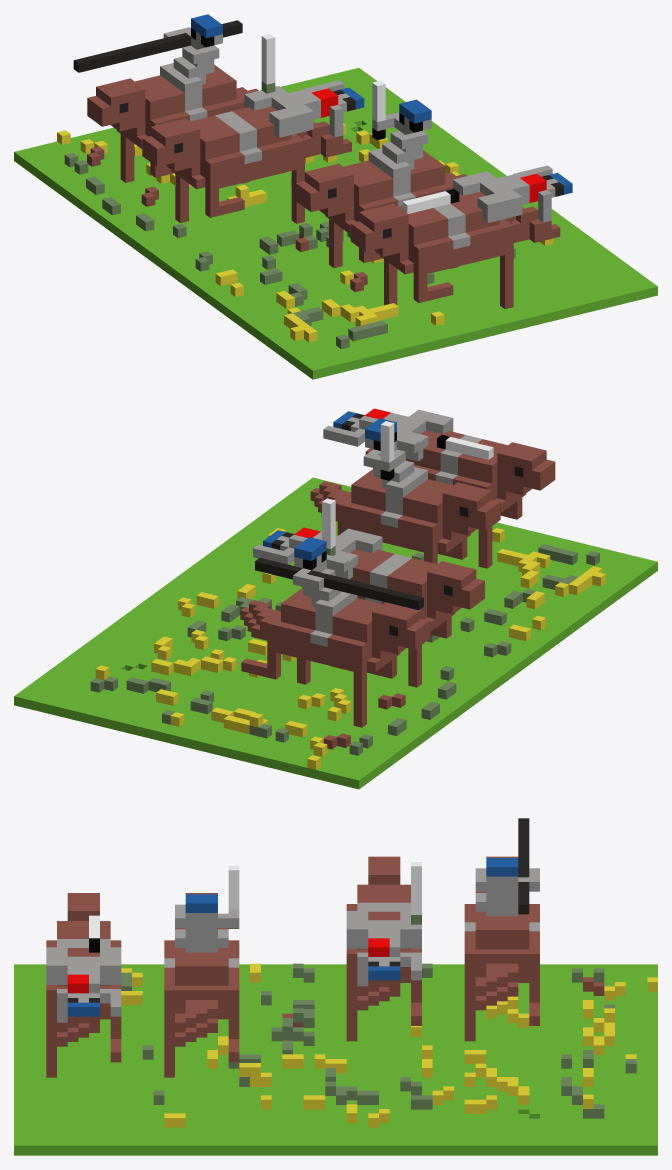
Rendered from tartar_engage_cossacks-5.obj.
3 views of the same model, one above another, from view 1: azimuth 30°, elevation 25°; view 2: azimuth 150°, elevation 25°; view 3: azimuth 270°, elevation 25° (orthographic). The views are drawn at different scales.
Size of the model in its own units: 4 by 2 by 6.
1 material, 1 textured.
